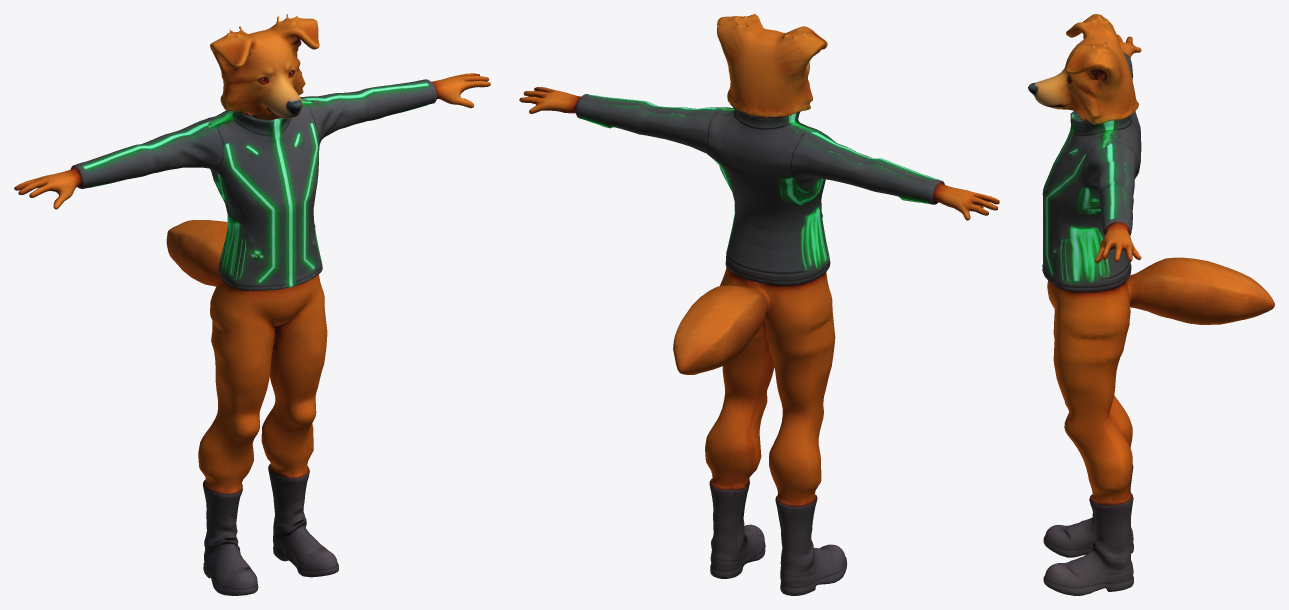
The model's file is 111_dog_orig.glb.
3 renders of one model, left to right at view 1: azimuth 30°, elevation 25°; view 2: azimuth 150°, elevation 25°; view 3: azimuth 270°, elevation 25°, orthographic. The views are drawn at different scales.
Parts seen in each view (by area): view 1: geometry_0.001; view 2: geometry_0.001; view 3: geometry_0.001.
Boxes of the visible parts, x1,y1,x2,y2 form: geometry_0.001: (14,14,490,595); geometry_0.001: (519,14,999,595); geometry_0.001: (1028,14,1274,595).
Bounding box in the file's own units: 1.8 × 2 × 0.8326.
1 material, 1 textured.
